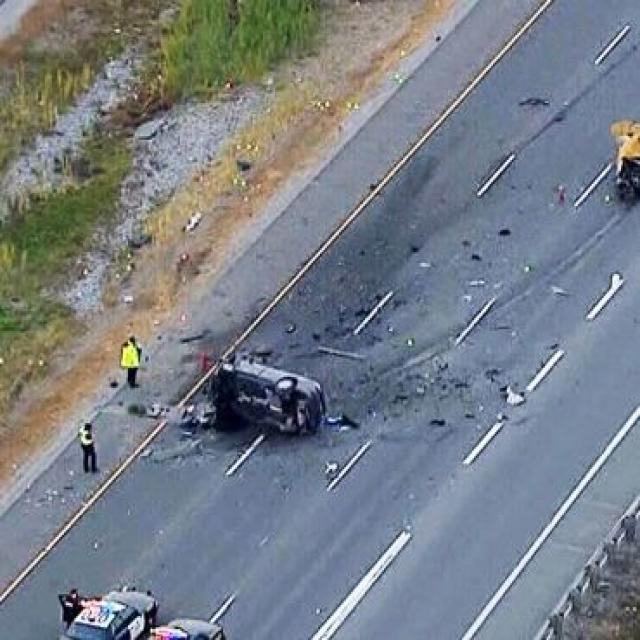traffic_incident: (201, 351, 339, 451)
